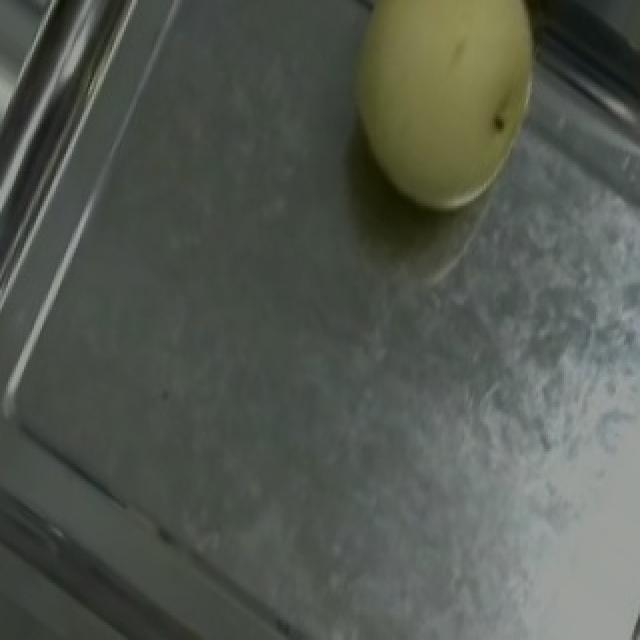Fruit: (306, 0, 572, 246)
